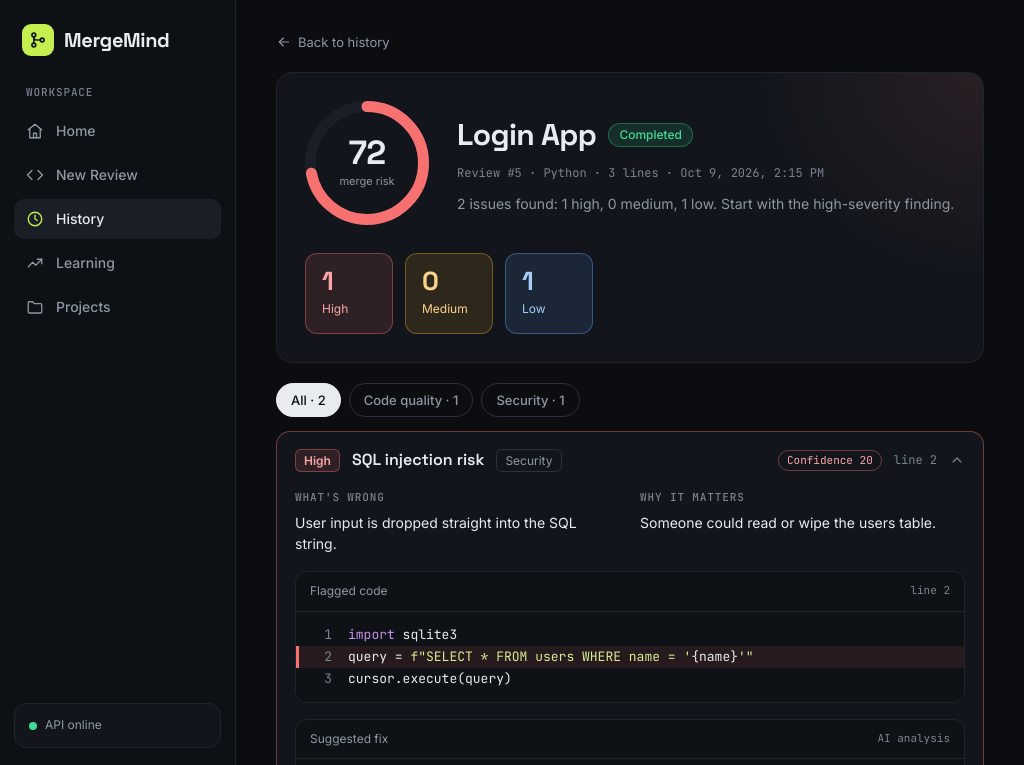
Test case: Review results › filters findings by category
Click the button "Code quality · 1" at (411, 400), box x1=349 y1=383 x2=474 y2=417
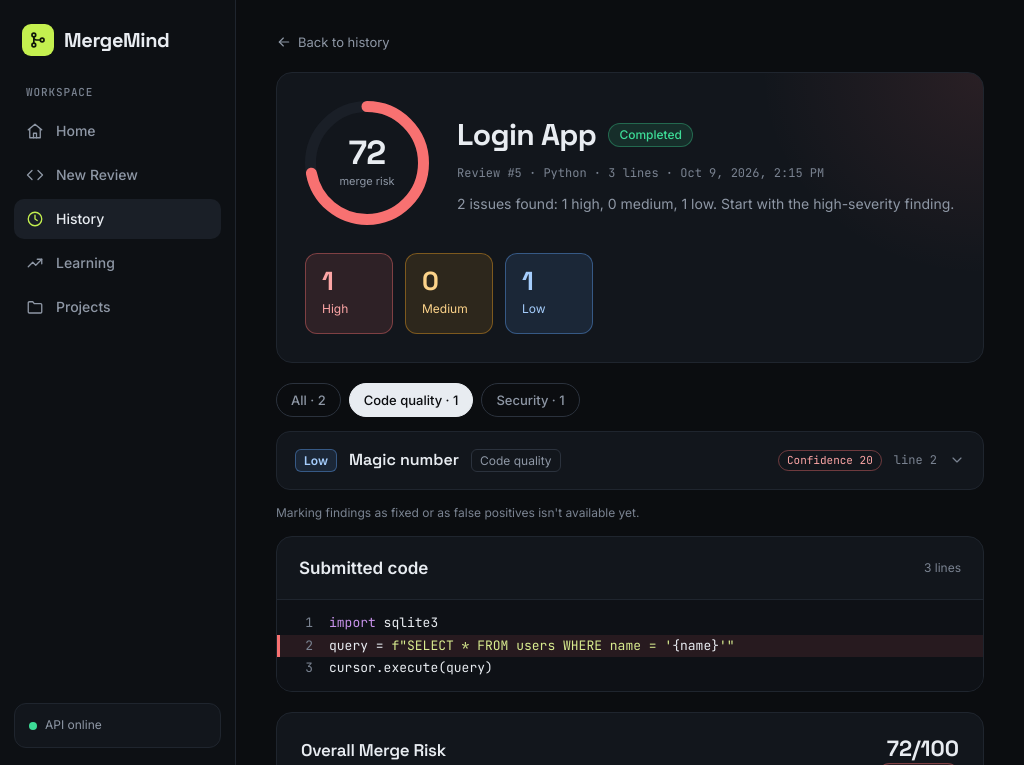
Expected: the button "Low Magic number Code quality Confidence 20 line 2" is shown, x1=277 y1=432 x2=983 y2=488
Result: the button "High SQL injection risk" is gone
